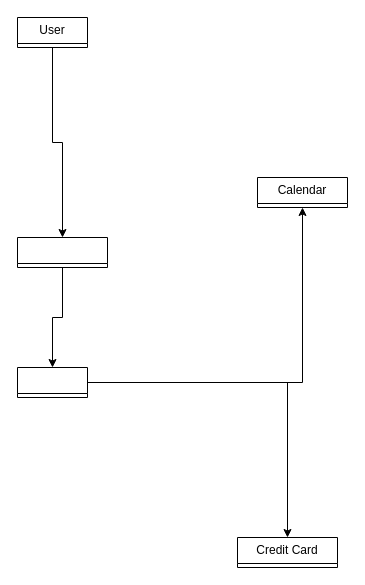
This 365x585 diagram has some shape labels left out. The centre of each missing label's shape, as x and y in pixels:
"Resume" belongs at point 62,252.
"Spent" belongs at point 52,382.
